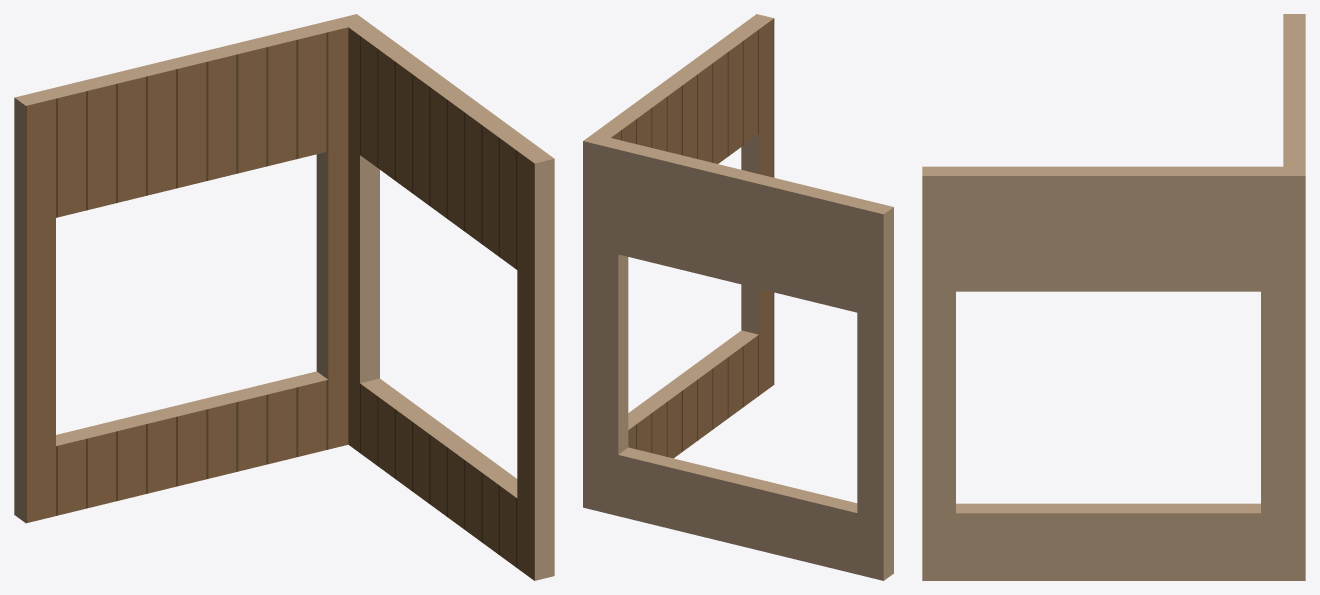
File: Wall2_C9_15.fbx
3 renders of one model, left to right at view 1: azimuth 30°, elevation 25°; view 2: azimuth 150°, elevation 25°; view 3: azimuth 270°, elevation 25°, orthographic. The views are drawn at different scales.
Visible parts, largest first — view 1: Wall2_C9_15; view 2: Wall2_C9_15; view 3: Wall2_C9_15.
Boxes of the visible parts, left/top/right/bottom form: Wall2_C9_15: left=14, top=14, right=554, bottom=580; Wall2_C9_15: left=583, top=14, right=893, bottom=580; Wall2_C9_15: left=922, top=14, right=1305, bottom=580.
Bounding box in the file's own units: 258 × 300 × 258.
